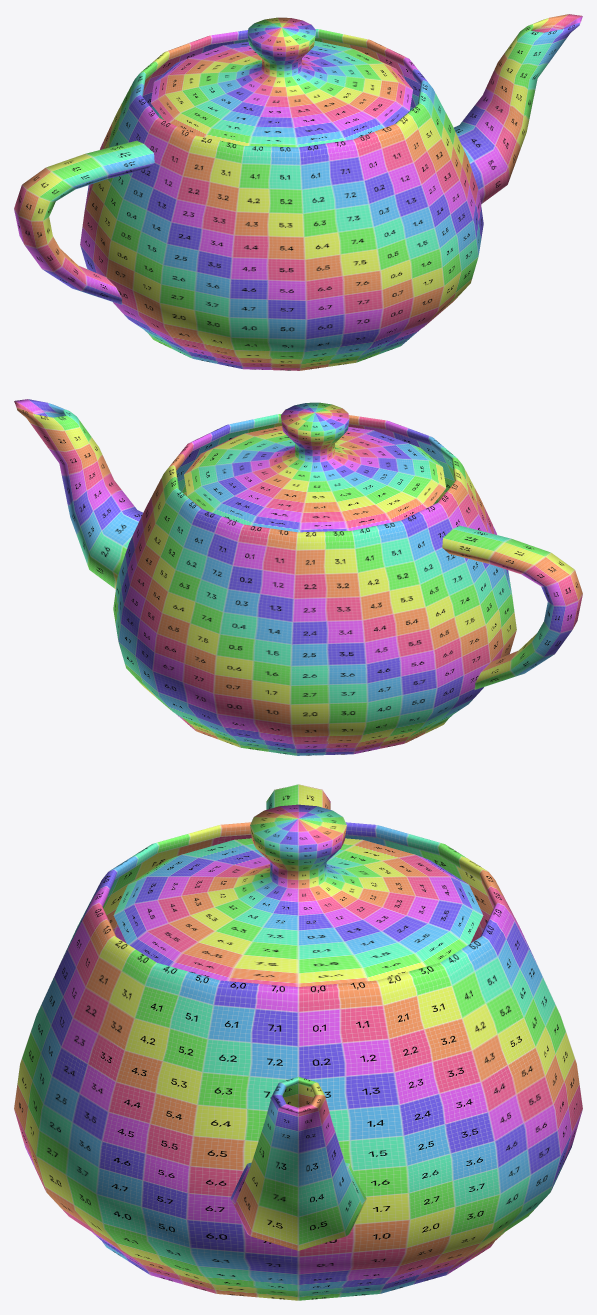
Rendered from teapot.obj.
3 renders of one model, top to bottom at view 1: azimuth 30°, elevation 25°; view 2: azimuth 150°, elevation 25°; view 3: azimuth 270°, elevation 25°, orthographic. The views are drawn at different scales.
Parts seen in each view (by area): view 1: teapot; view 2: teapot; view 3: teapot.
Part boxes in pixels (x1,y1,x2,y2): teapot: (14,14,582,370); teapot: (14,399,582,755); teapot: (14,784,582,1300).
Bounding box in the file's own units: 3.16 × 1.55 × 1.96.
Materials: 1 (1 with a texture image).
